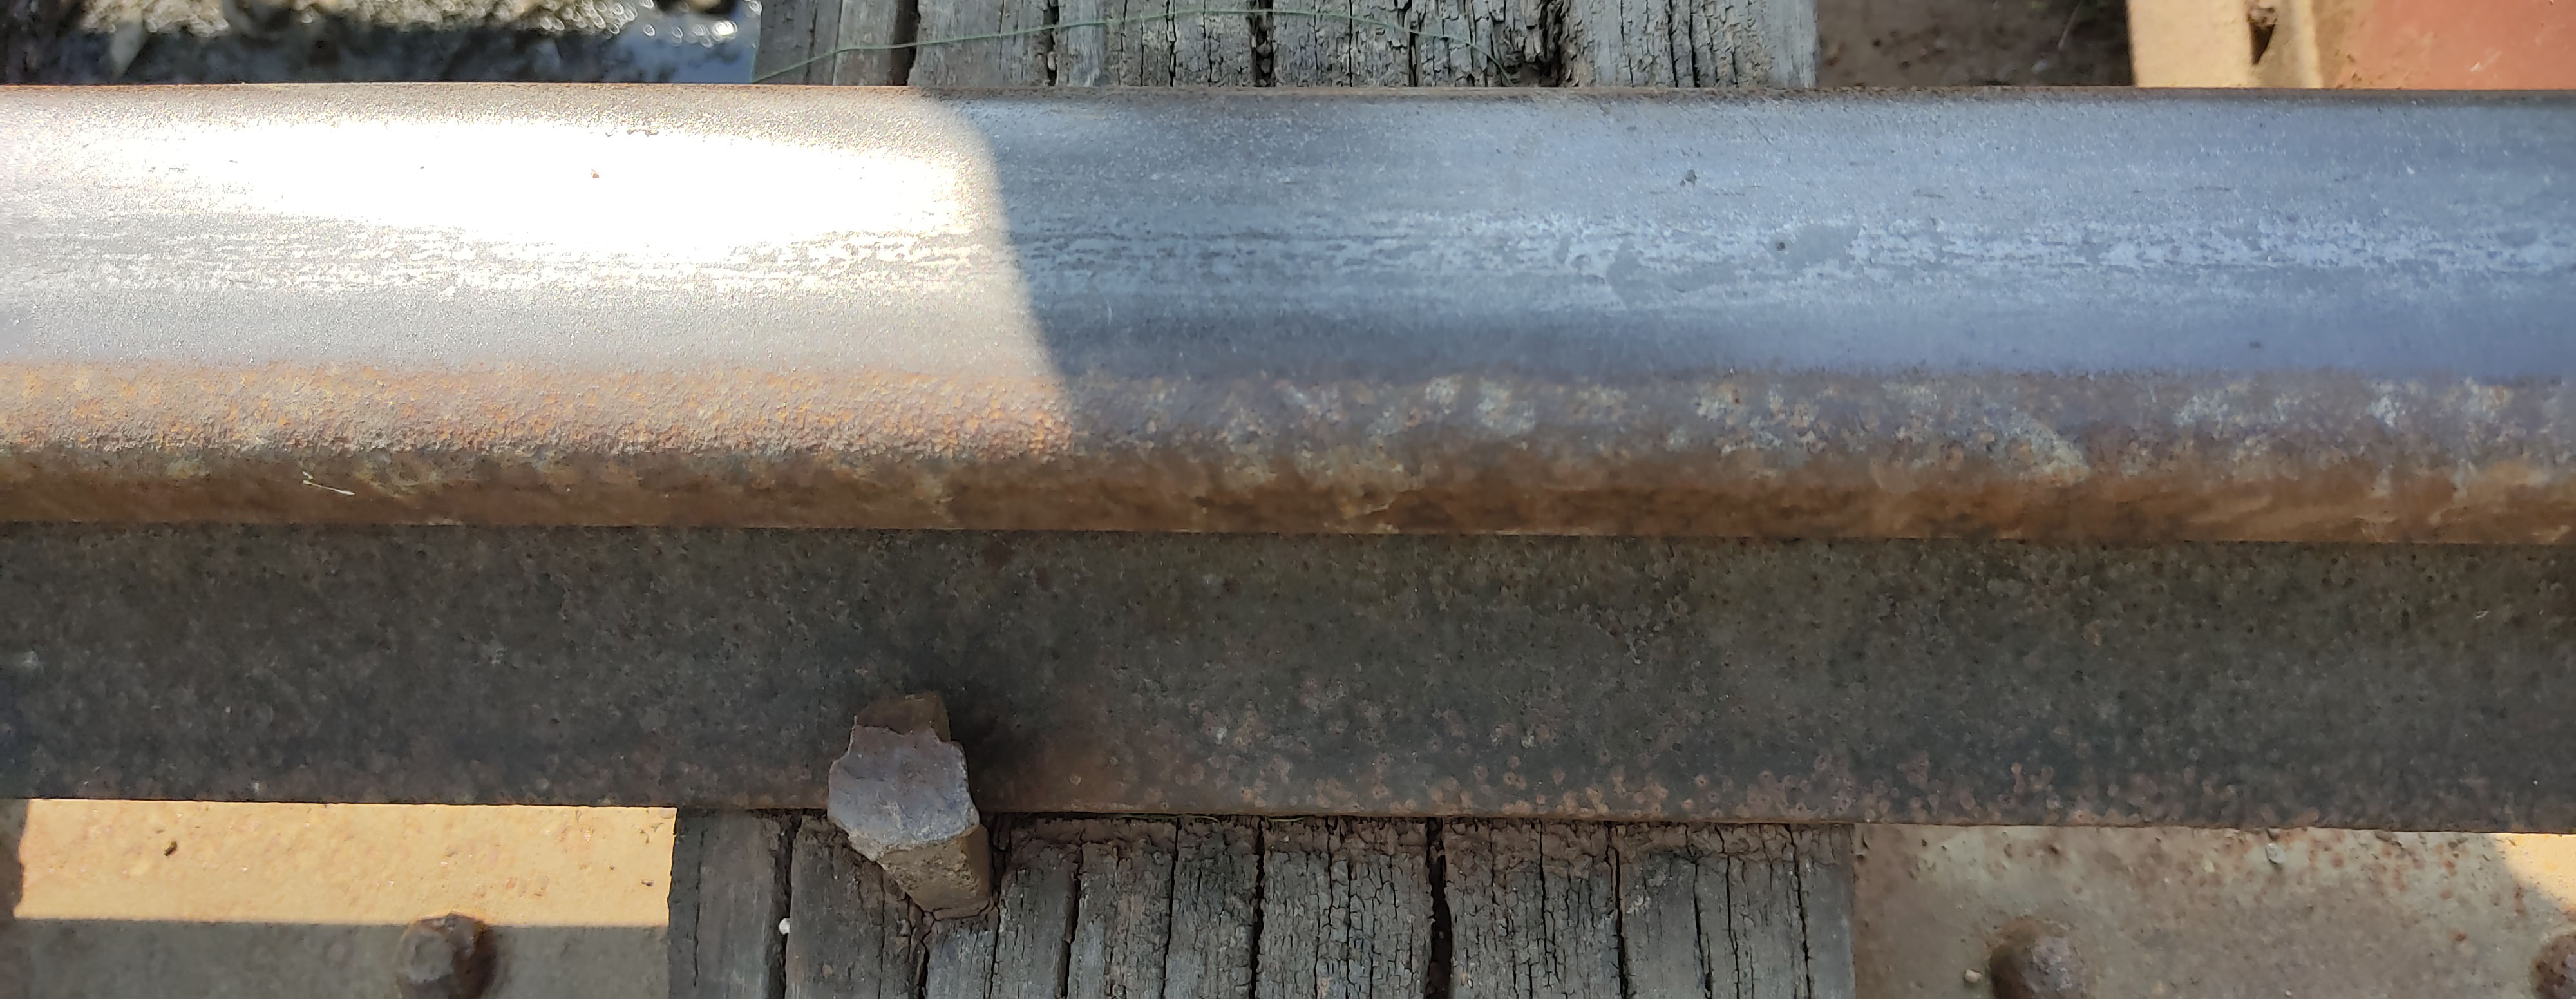error1: (810, 642, 1045, 969)
